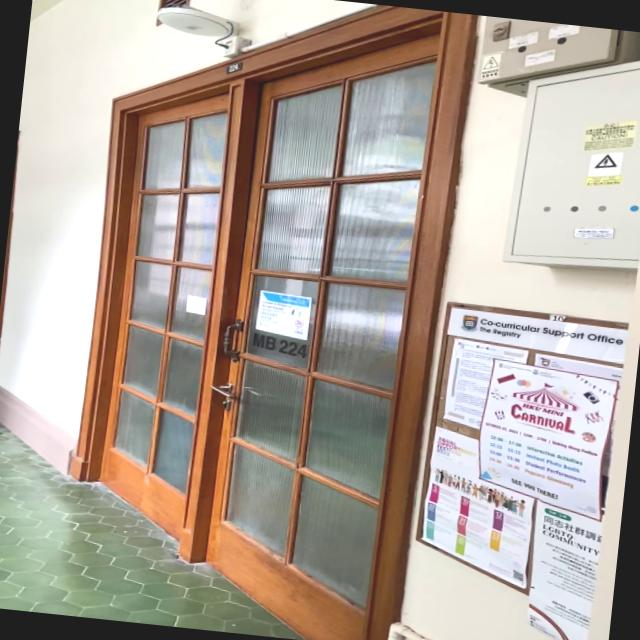room224Window: (248, 331, 308, 361)
